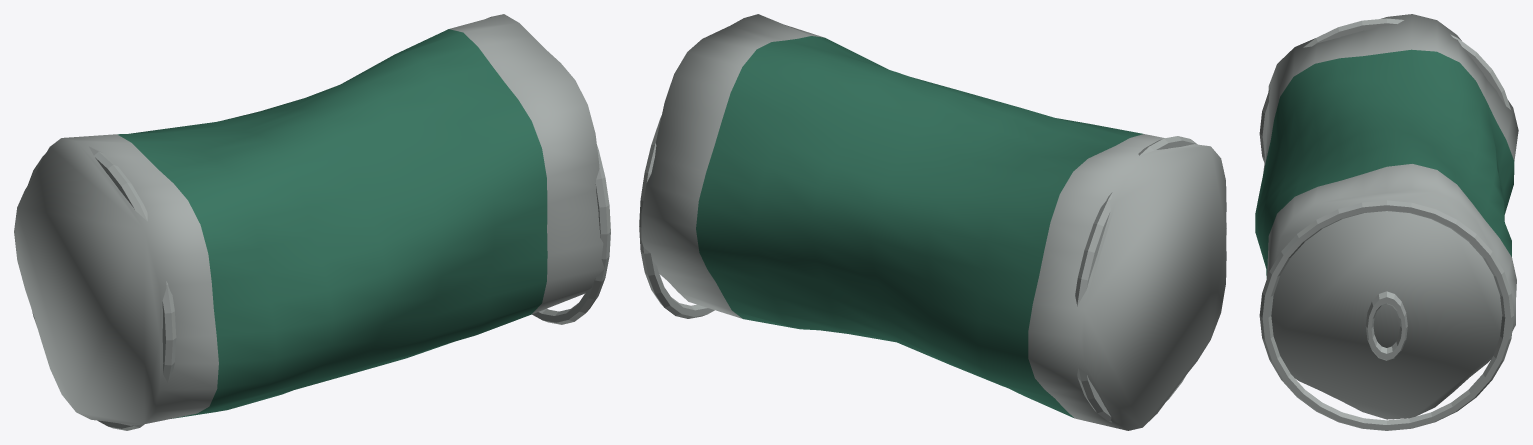
The model's file is can_00.glb.
3 renders of one model, left to right at view 1: azimuth 30°, elevation 25°; view 2: azimuth 150°, elevation 25°; view 3: azimuth 270°, elevation 25°, orthographic. The views are drawn at different scales.
Visible parts, largest first — view 1: Crushed can; view 2: Crushed can; view 3: Crushed can.
Part boxes in pixels (bbox=[...]): Crushed can: bbox=[14, 14, 610, 430]; Crushed can: bbox=[639, 14, 1226, 430]; Crushed can: bbox=[1255, 14, 1518, 430].
Size of the model in its own units: 0.1156 by 0.0712 by 0.0673.
